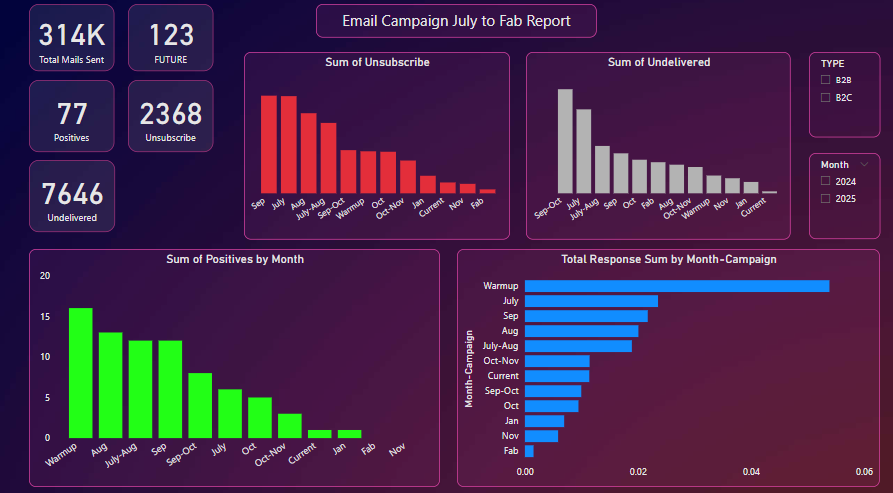

Layout of this report page (visuals, bound fields, positions):
{"tool":"powerbi","page":{"name":"Page 1","canvas":[1280,720],"ordinal":0},"visuals":[{"type":"barChart","fields":{"Category":["DATA.Month-Campaign"],"Y":["Sum(DATA.Total Resp %)"]},"box":[654.8,360,603.8,340.2],"z":0},{"type":"slicer","fields":{"Values":["DATA.Year"]},"box":[1156.5,222.5,102,123.3],"z":2000},{"type":"textbox","box":[453.5,9.9,401.1,48.2],"z":3000},{"type":"slicer","fields":{"Values":["DATA.Type"]},"box":[1156.5,78,102,121.9],"z":4000},{"type":"card","fields":{"Values":["Sum(DATA.Positive )"]},"box":[42.5,119.1,121.9,103.5],"z":5000},{"type":"card","fields":{"Values":["Sum(DATA.FUTURE)"]},"box":[184.3,9.9,121.9,96.4],"z":6000},{"type":"card","fields":{"Values":["Sum(DATA.Unsubscribe)"]},"box":[184.3,119.1,121.9,103.5],"z":7000},{"type":"card","fields":{"Values":["Sum(DATA.Undelivered)"]},"box":[42.5,232.4,123.3,103.5],"z":8000},{"type":"card","fields":{"Values":["Sum(DATA.Total Mail Sent)"]},"box":[42.5,9.9,121.9,96.4],"z":9000},{"type":"columnChart","title":"Sum of Positives by Month","fields":{"Y":["Sum(DATA.Positive )"],"Category":["DATA.Month-Campaign"]},"box":[42.5,360,586.8,340.2],"z":10000},{"type":"columnChart","title":"Sum of Undelivered","fields":{"Category":["DATA.Month-Campaign"],"Y":["Sum(DATA.Undelivered)"]},"box":[752.6,78,378.4,267.9],"z":11000},{"type":"columnChart","title":"Sum of Unsubscribe","fields":{"Category":["DATA.Month-Campaign"],"Y":["Sum(DATA.Unsubscribe)"]},"box":[350.1,78,379.8,267.9],"z":12000}]}

Visuals, with their boxes in screenshot pixels (x1, y1, x2, y2), scaled from the page's 1280x720 canvas onto the 893x493 screenshot:
barChart - DATA.Month-Campaign x Sum(DATA.Total Resp %): BBox(457, 246, 878, 479)
slicer - DATA.Year: BBox(807, 152, 878, 237)
textbox: BBox(316, 7, 596, 40)
slicer - DATA.Type: BBox(807, 53, 878, 137)
card - Sum(DATA.Positive ): BBox(30, 82, 115, 152)
card - Sum(DATA.FUTURE): BBox(129, 7, 214, 73)
card - Sum(DATA.Unsubscribe): BBox(129, 82, 214, 152)
card - Sum(DATA.Undelivered): BBox(30, 159, 116, 230)
card - Sum(DATA.Total Mail Sent): BBox(30, 7, 115, 73)
"Sum of Positives by Month" columnChart: BBox(30, 246, 439, 479)
"Sum of Undelivered" columnChart: BBox(525, 53, 789, 237)
"Sum of Unsubscribe" columnChart: BBox(244, 53, 509, 237)
